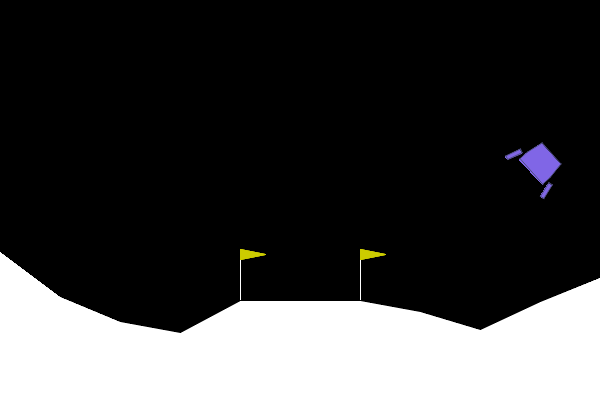lander: (503, 130, 573, 201)
